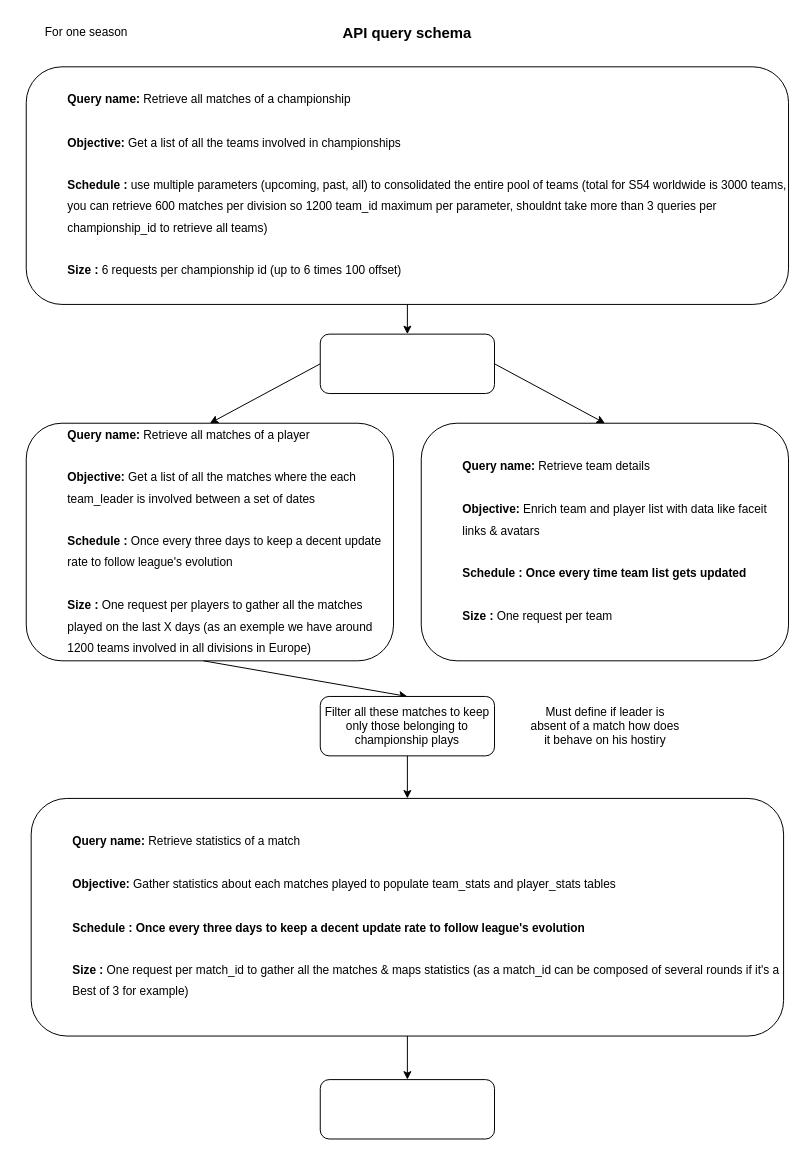
This 806x1156 diagram has some shape labels left out. The shapes that lost their labels are listed below. From the top down, each one's centre as x and y in pixels, then its label:
At [407,363]: "Gather all team_id and all leader_id within a list".
At [407,1109]: "Build dataviz".
